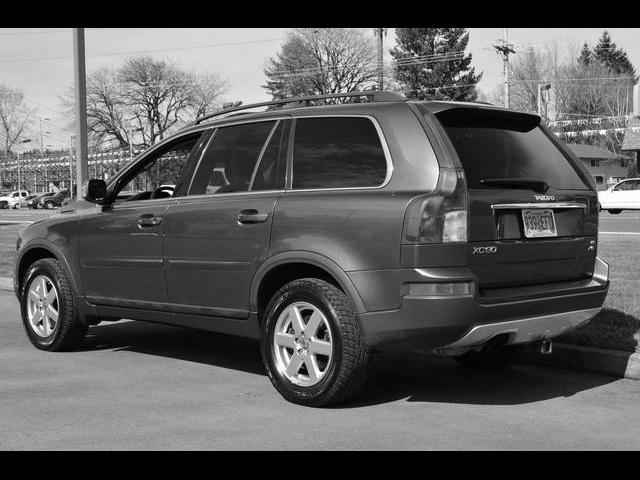car: (15, 93, 608, 408)
